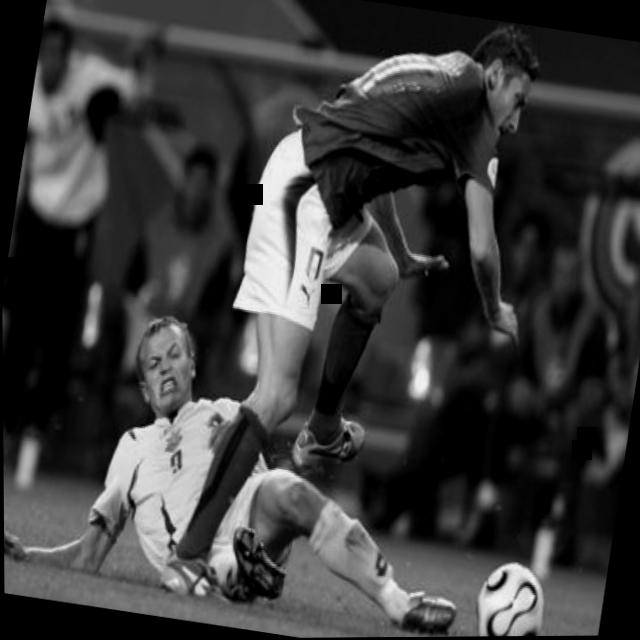Fall-Detected: (2, 273, 522, 636)
